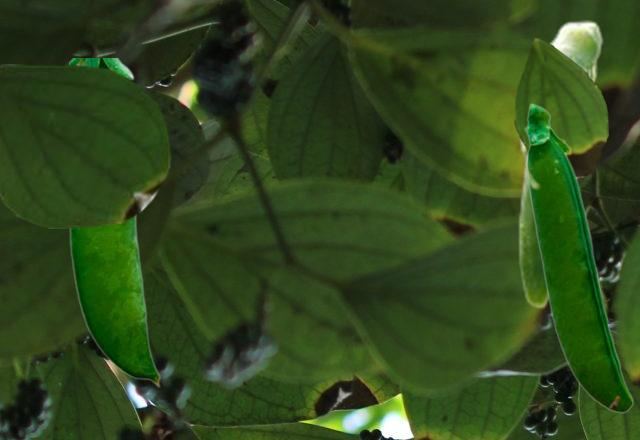pea: (524, 102, 632, 412), (69, 58, 159, 386), (517, 20, 603, 308)
